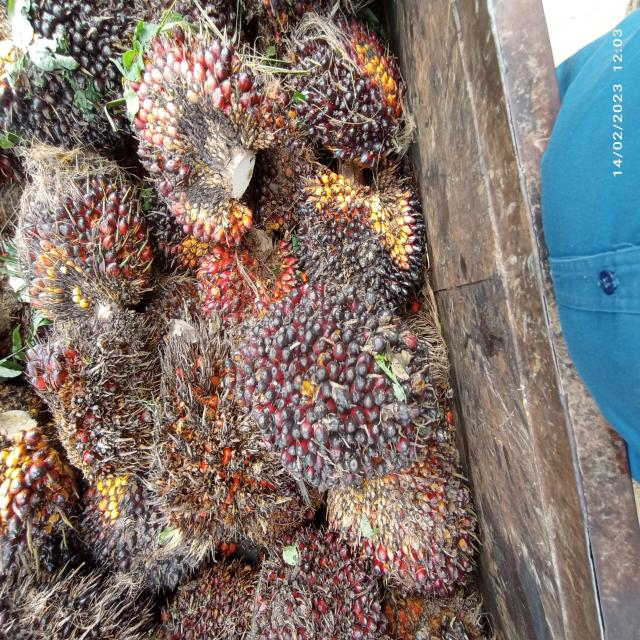fraksi 00: (118, 20, 292, 252), (0, 0, 135, 185), (281, 0, 411, 173), (286, 160, 430, 315)
fraksi 1: (230, 252, 420, 508), (290, 404, 514, 597), (2, 145, 157, 353), (240, 523, 387, 640)
fraksi 4: (119, 334, 328, 558), (187, 233, 307, 332)
